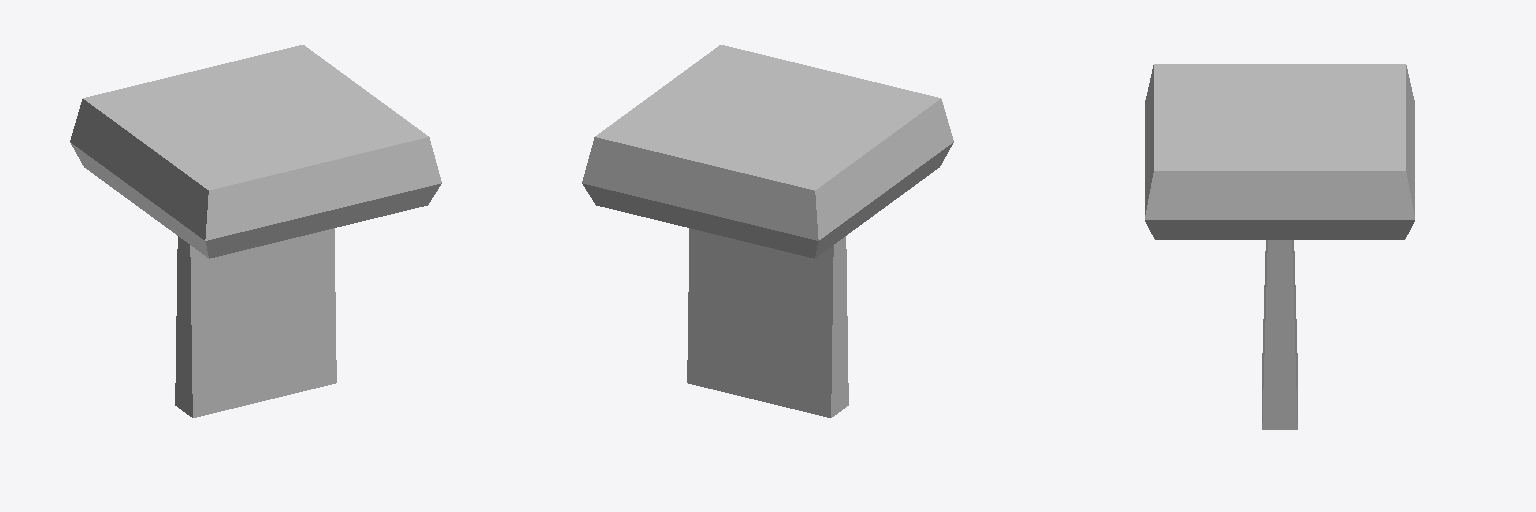
File: End_Table.obj
3 views of the same model, side by side, from view 1: azimuth 30°, elevation 25°; view 2: azimuth 150°, elevation 25°; view 3: azimuth 270°, elevation 25° (orthographic).
Parts seen in each view (by area): view 1: End_Table; view 2: End_Table; view 3: End_Table.
Boxes of the visible parts, box(x1,y1,x2,y2) form: End_Table: box(70, 45, 441, 417); End_Table: box(582, 45, 953, 417); End_Table: box(1145, 64, 1414, 429).
Bounding box in the file's own units: 0.8364 × 0.9342 × 0.829.